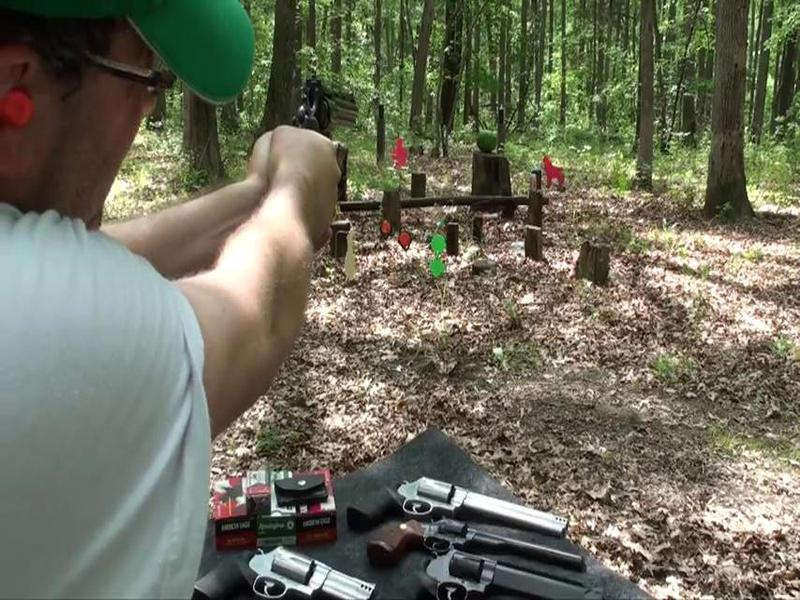Revolver: (277, 73, 379, 153)
